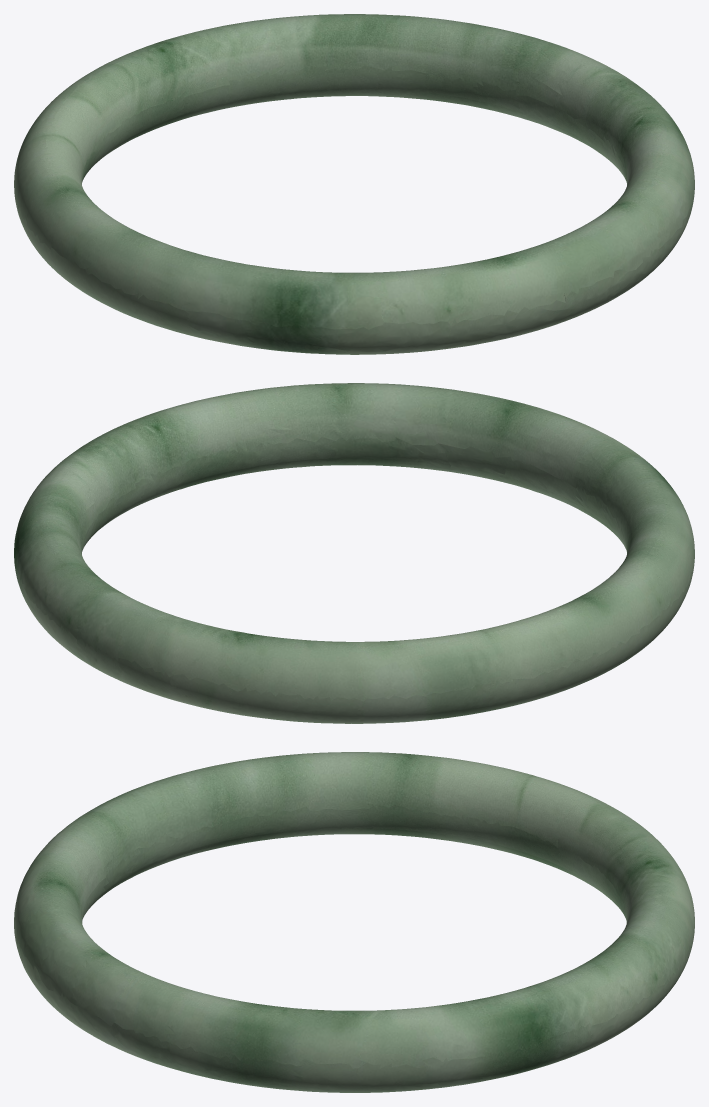
The model's file is ring_jade.glb.
3 views of the same model, one above another, from view 1: azimuth 30°, elevation 25°; view 2: azimuth 150°, elevation 25°; view 3: azimuth 270°, elevation 25° (orthographic).
Size of the model in its own units: 1.89 by 0.2358 by 1.89.
1 material, 1 textured.
